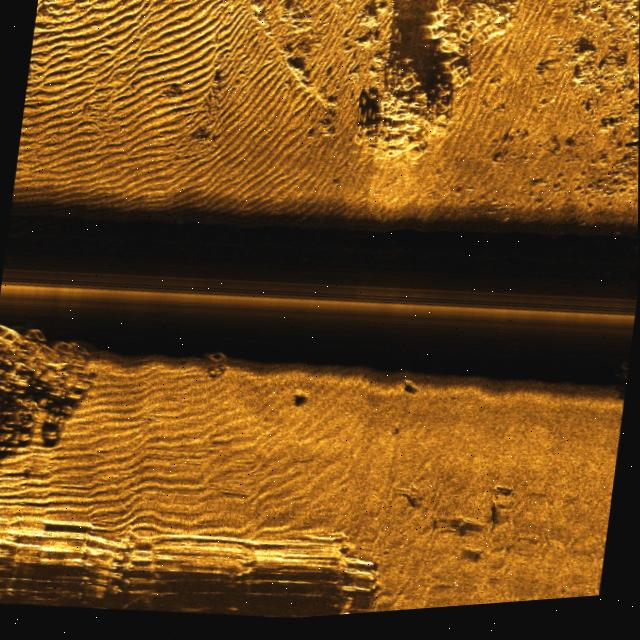artificial reef: (349, 0, 501, 175), (0, 312, 97, 438), (190, 341, 243, 394)
